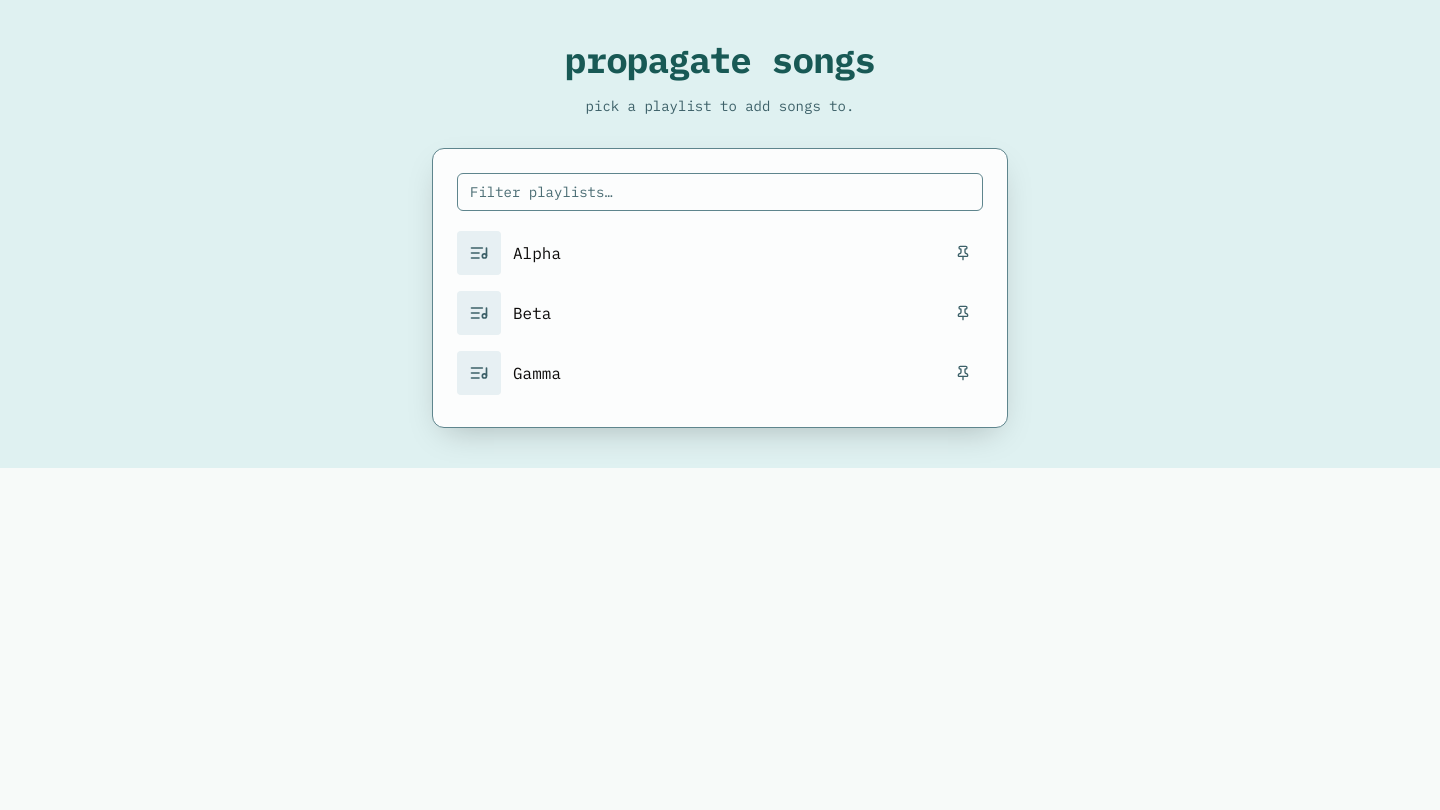
Scenario: Propagate destination chooser page › choosing a destination opens the source dialog, excluding the destination
This screenshot has width=1440, height=810.
Expected: the text "Alpha" is shown, [513,241,561,265]
What coordinates should you click on to do the following:
click the button "Alpha"
I would click on:
 (479, 253)
Its box is [457,231,935,275].
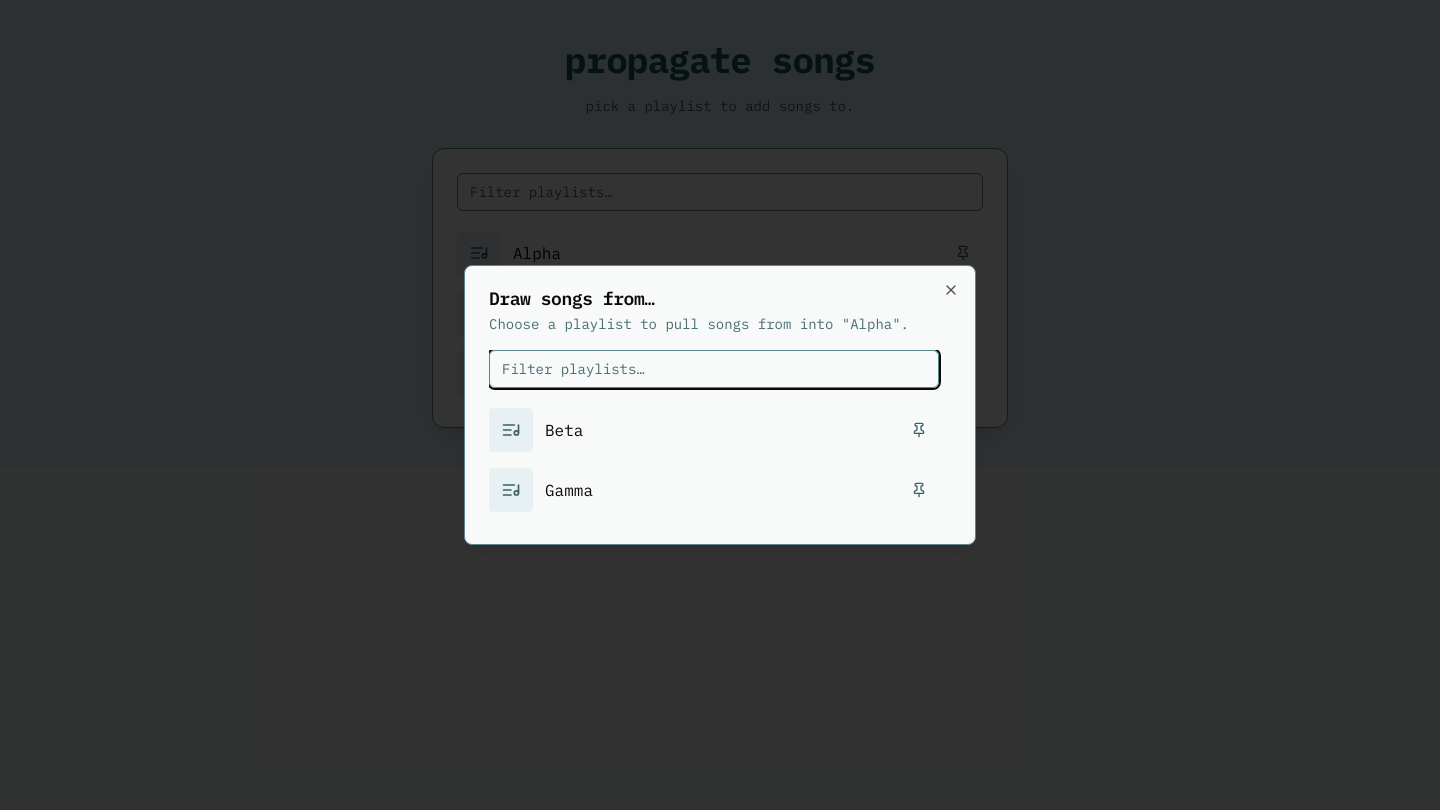
Expected: the dialog is shown, [464,265,976,545]
Expected: the button "Beta" is shown, [489,408,891,452]
Expected: the button "Gamma" is shown, [489,468,891,512]
